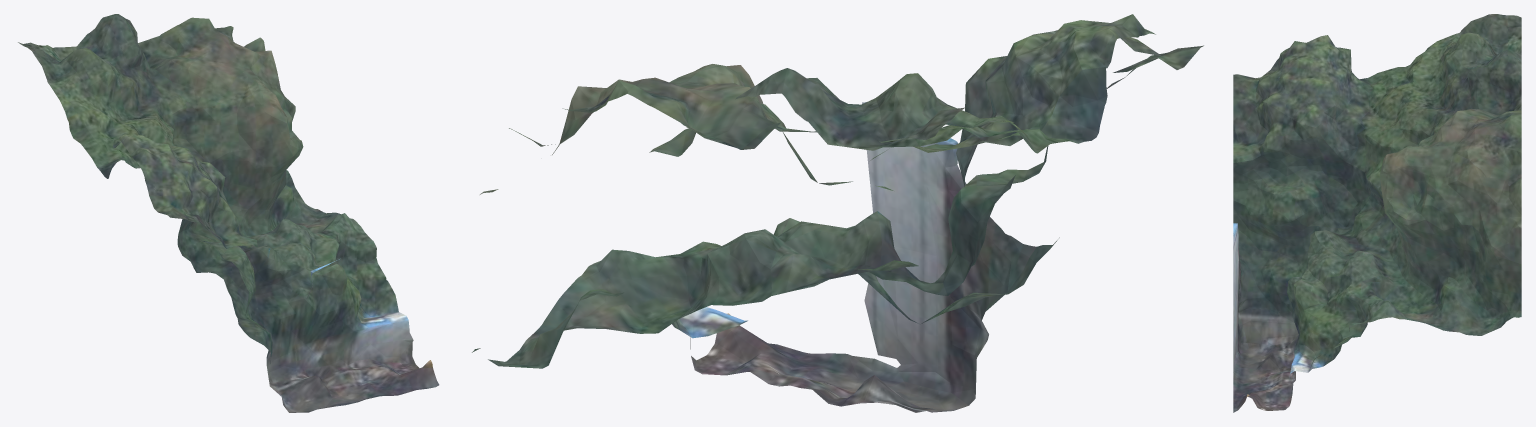
File: Tile__004__004_L21_0001210.glb
3 views of the same model, side by side, from view 1: azimuth 30°, elevation 25°; view 2: azimuth 150°, elevation 25°; view 3: azimuth 270°, elevation 25° (orthographic). The views are drawn at different scales.
Parts seen in each view (by area): view 1: root; view 2: root; view 3: root.
Boxes of the visible parts, bbox=[...] form: root: bbox=[18, 14, 439, 412]; root: bbox=[472, 14, 1203, 412]; root: bbox=[1233, 14, 1521, 412].
Size of the model in its own units: 12.62 by 13.81 by 12.63.
1 material, 1 textured.
